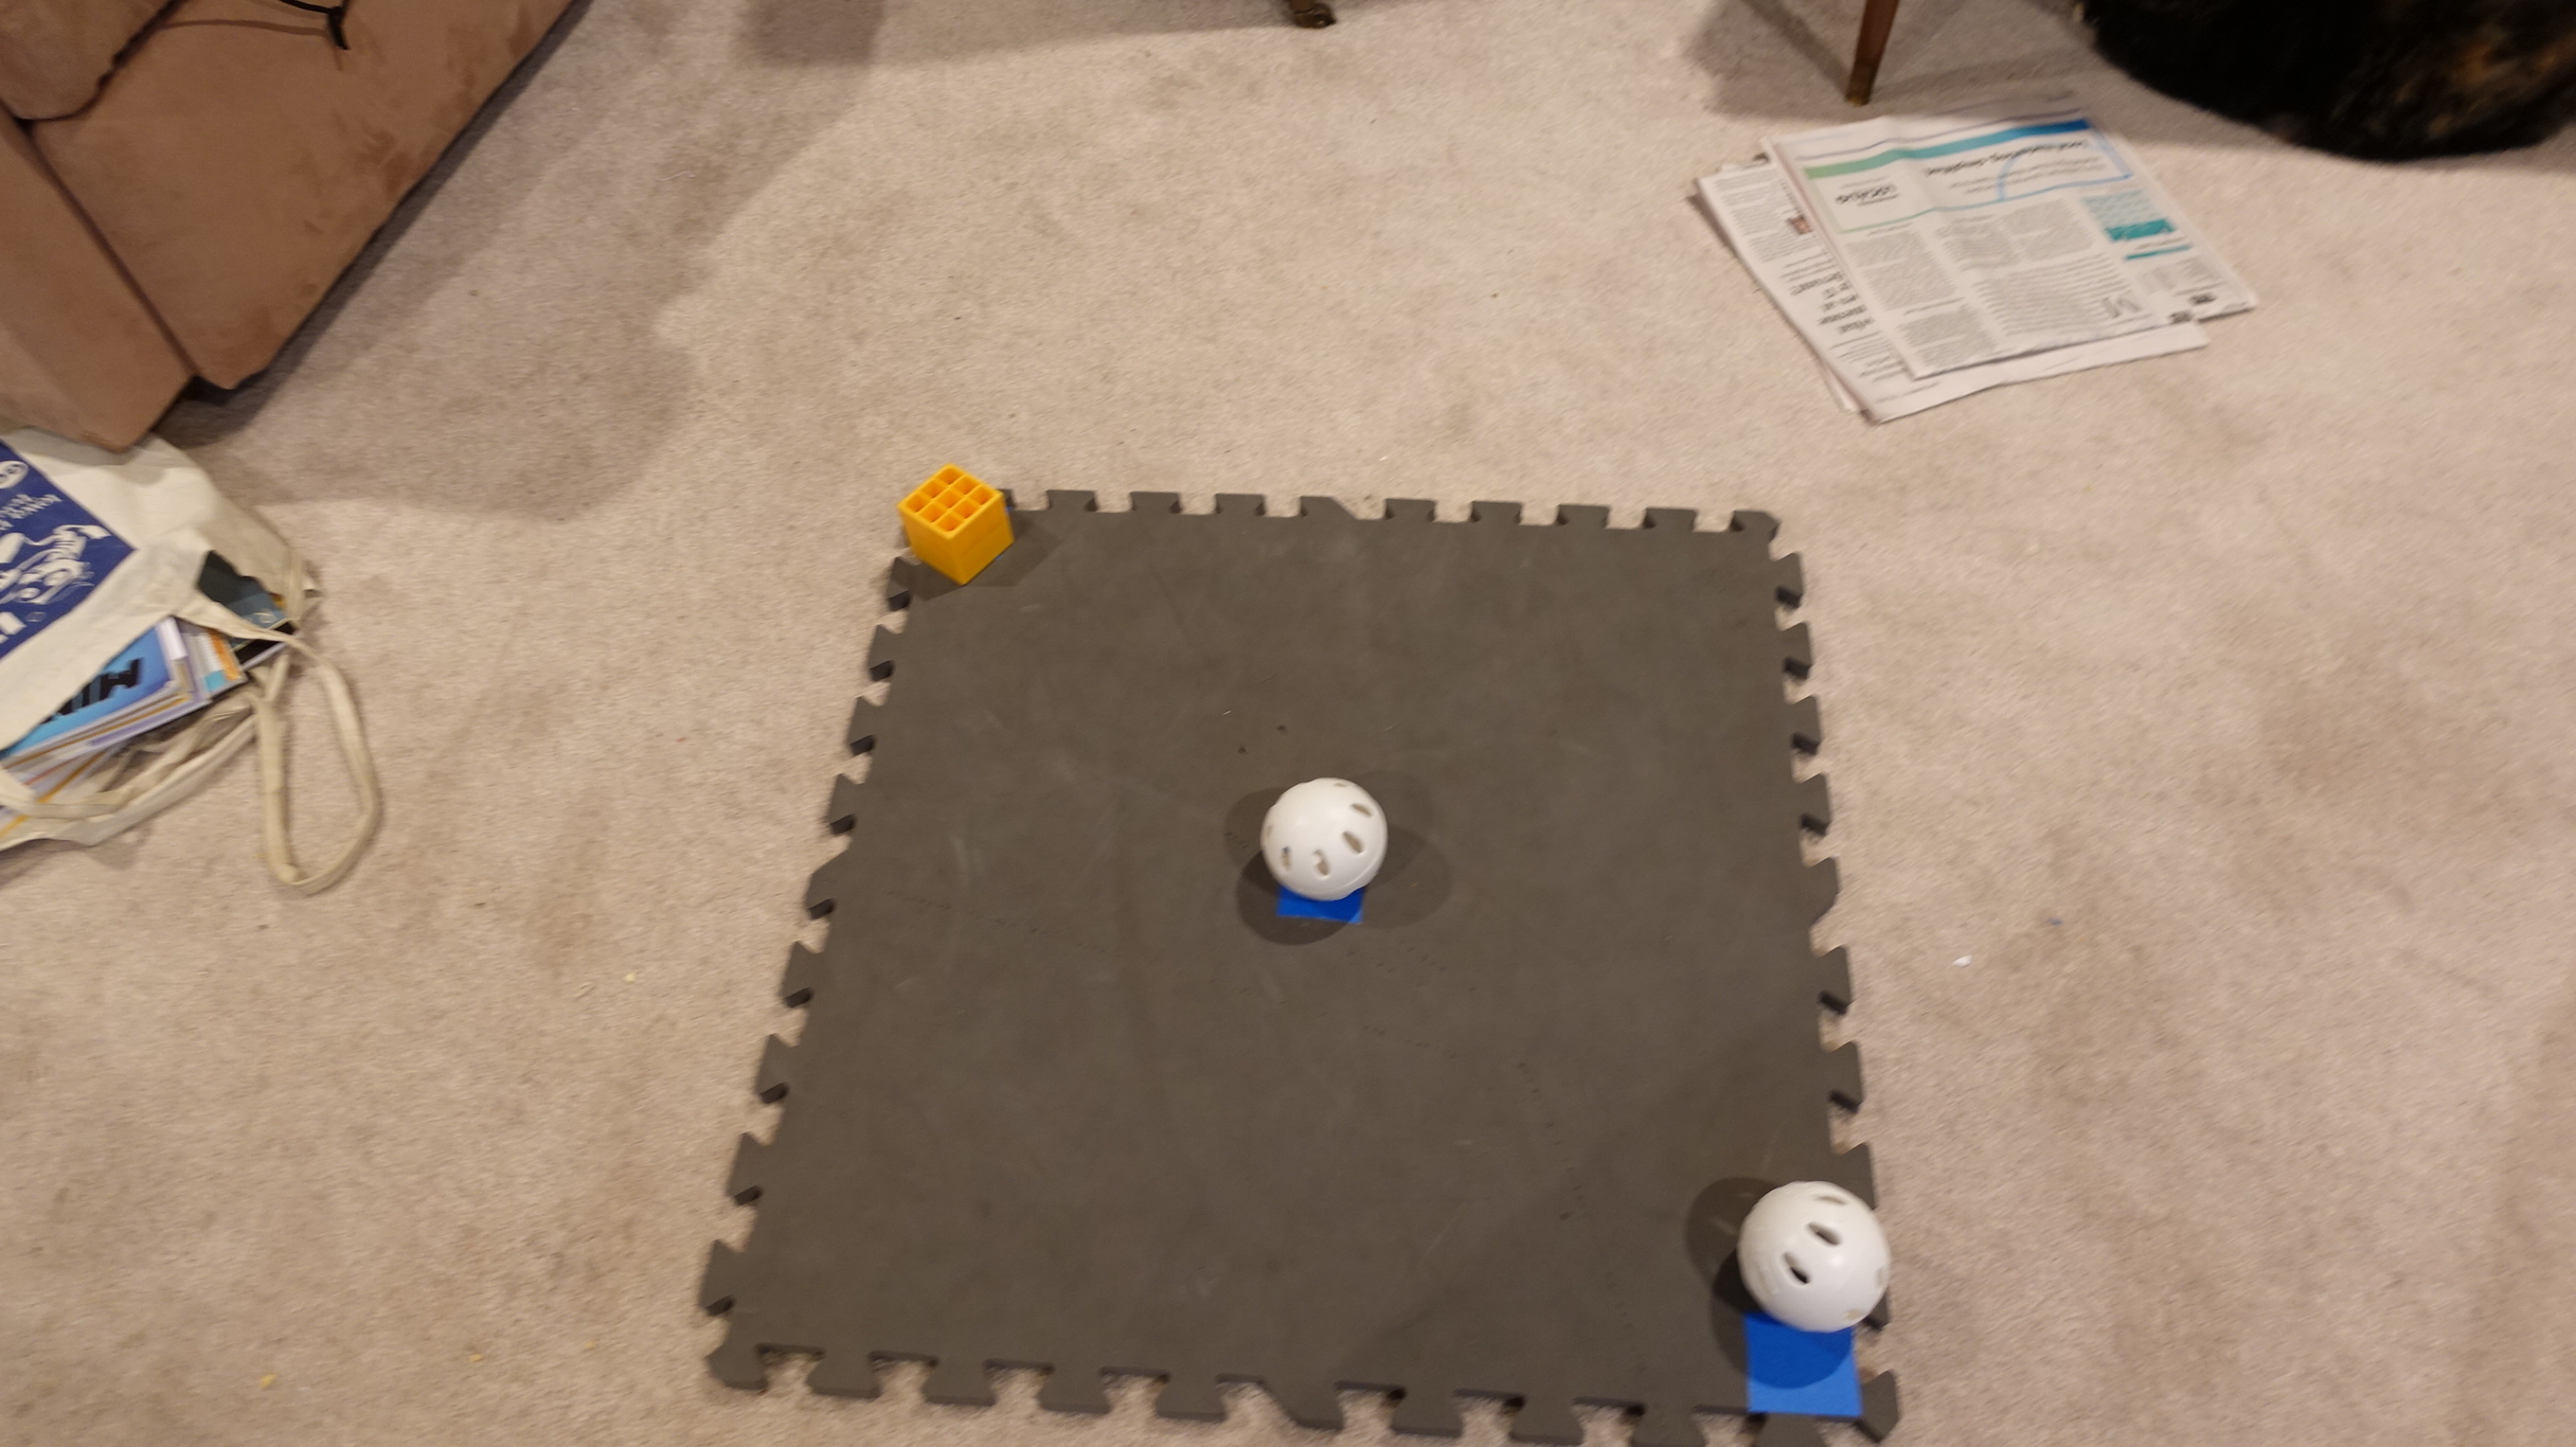gold: (883, 453, 1028, 591)
silver: (1725, 1169, 1909, 1344), (1247, 769, 1399, 915)
